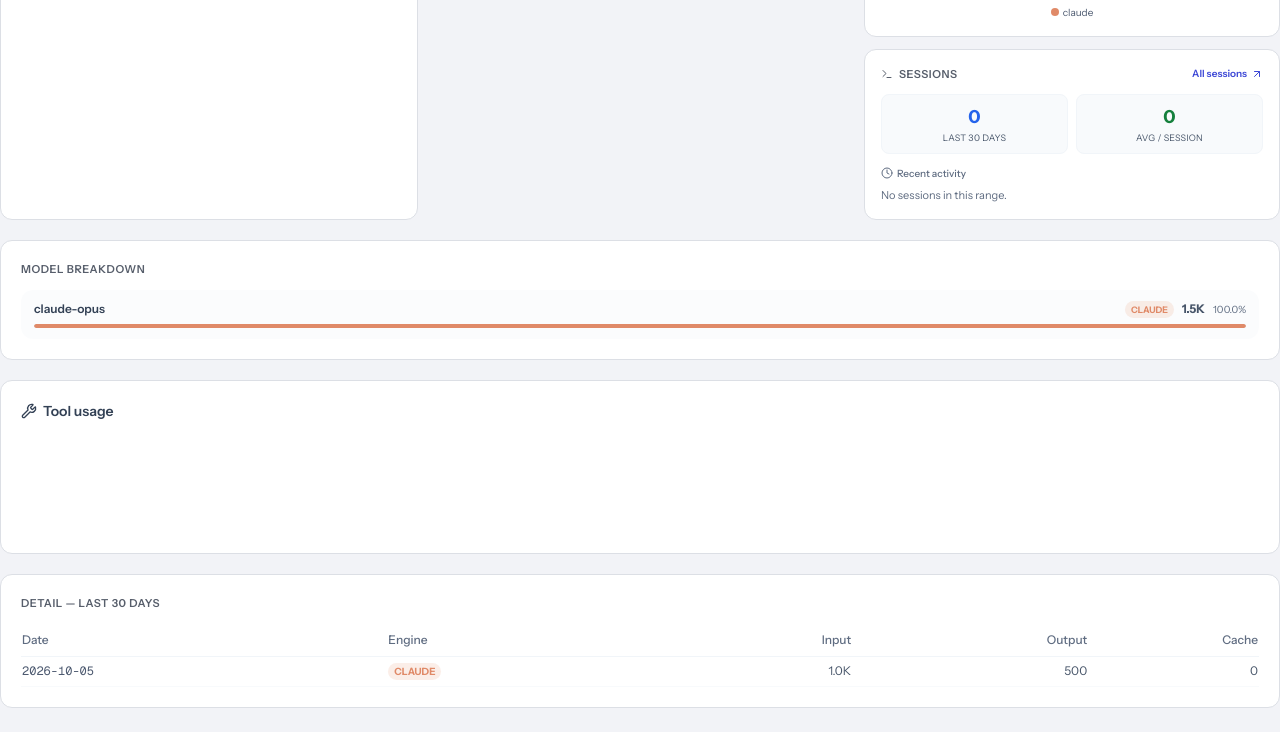
Test: Analytics time range scoping › scopes the model breakdown to the range
This screenshot has width=1280, height=732.
(page scrolled)
Check: the text "Model Breakdown" is shown, box [21,261,145,278]
Click the button "claude-opus claude 1.5K 100.0%": click(69, 309) [21,290,1259,339]
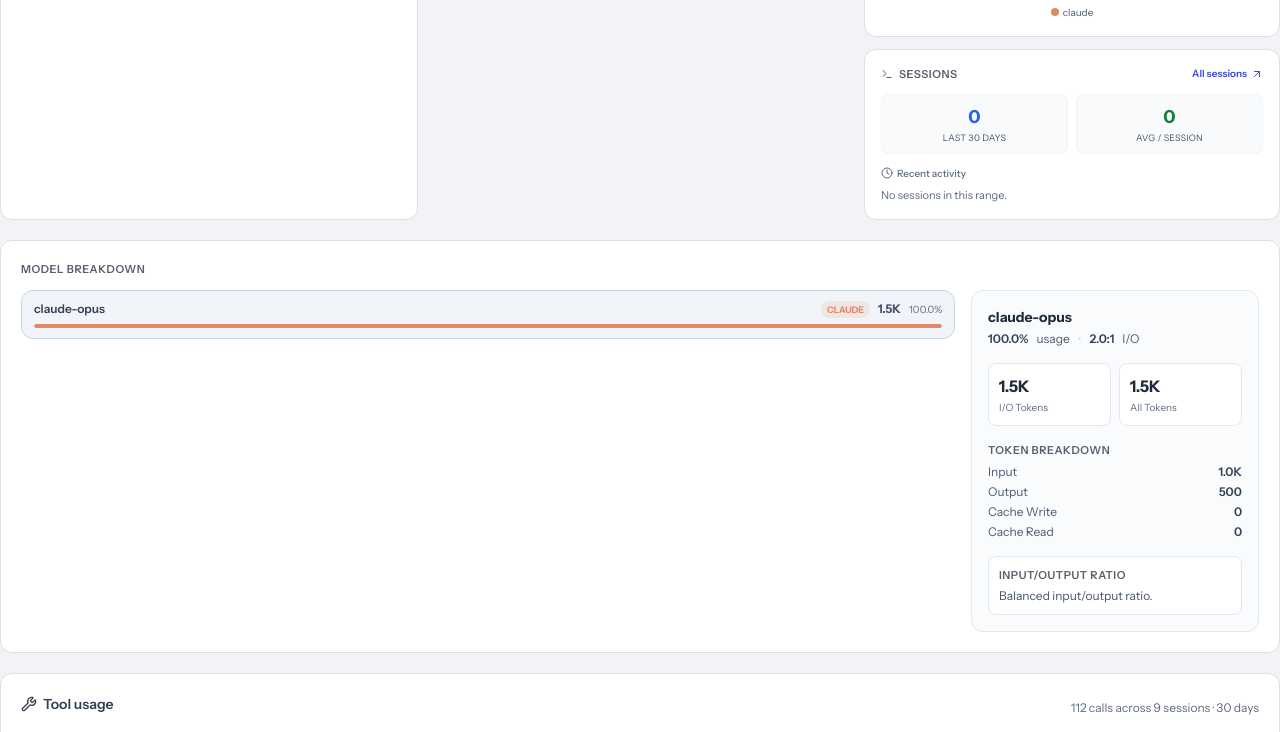
Check: the text "1.0K" is shown, box [1218,464,1242,480]
